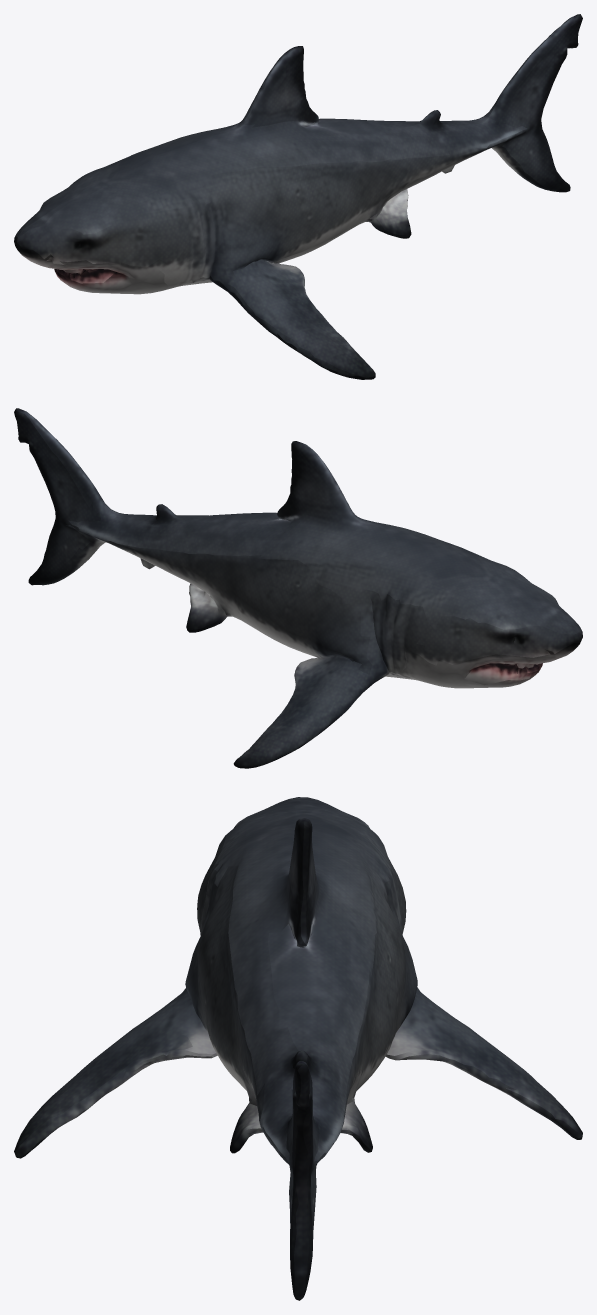
3 renders of one model, top to bottom at view 1: azimuth 30°, elevation 25°; view 2: azimuth 150°, elevation 25°; view 3: azimuth 270°, elevation 25°, orthographic. The views are drawn at different scales.
Visible parts, largest first — view 1: world; view 2: world; view 3: world.
Part boxes in pixels (x1,y1,x2,y2): world: (14, 14, 582, 379); world: (14, 408, 582, 768); world: (14, 797, 582, 1300).
Size of the model in its own units: 4.5 by 1.92 by 2.78.
Materials: 1 (1 with a texture image).
